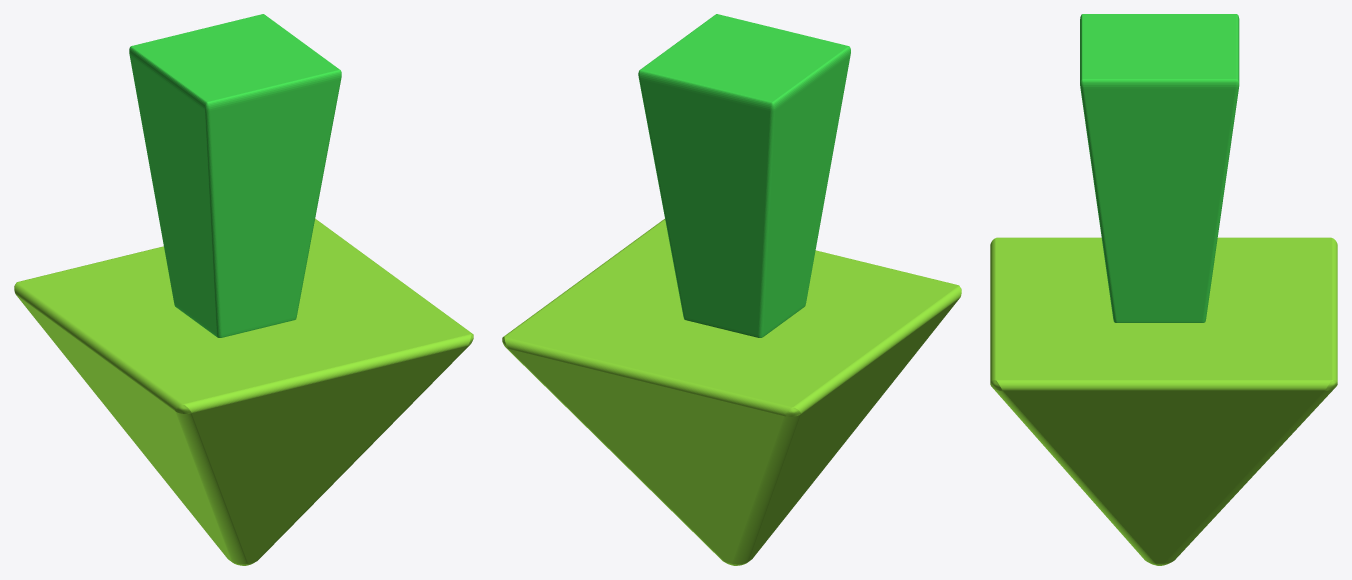
File: punto.glb
The picture shows the model from 3 angles, left to right: view 1: azimuth 30°, elevation 25°; view 2: azimuth 150°, elevation 25°; view 3: azimuth 270°, elevation 25°; orthographic projection.
Visible parts, largest first — view 1: Cube.002, Cube.001; view 2: Cube.002, Cube.001; view 3: Cube.002, Cube.001.
Part boxes in pixels (x1=…): Cube.002: x1=14, y1=218, x2=473, y2=565; Cube.001: x1=129, y1=14, x2=341, y2=337; Cube.002: x1=502, y1=219, x2=961, y2=565; Cube.001: x1=638, y1=14, x2=850, y2=337; Cube.002: x1=990, y1=237, x2=1337, y2=565; Cube.001: x1=1080, y1=14, x2=1239, y2=322.
Size of the model in its own units: 0.9232 by 1.51 by 0.9232.
